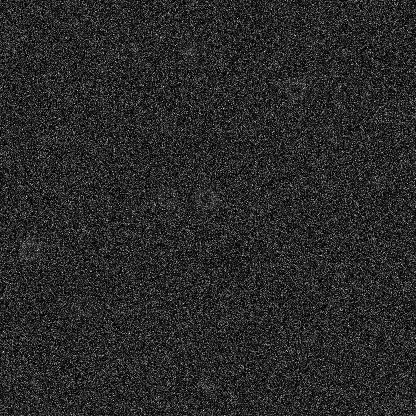Ring: (155, 185, 179, 209), (283, 76, 307, 100), (194, 187, 218, 211), (72, 295, 96, 319), (17, 238, 41, 262)
Spot: (391, 325, 407, 341), (101, 46, 117, 62), (197, 376, 213, 392), (368, 174, 384, 190), (181, 42, 197, 58), (34, 233, 50, 249), (26, 375, 42, 391)
